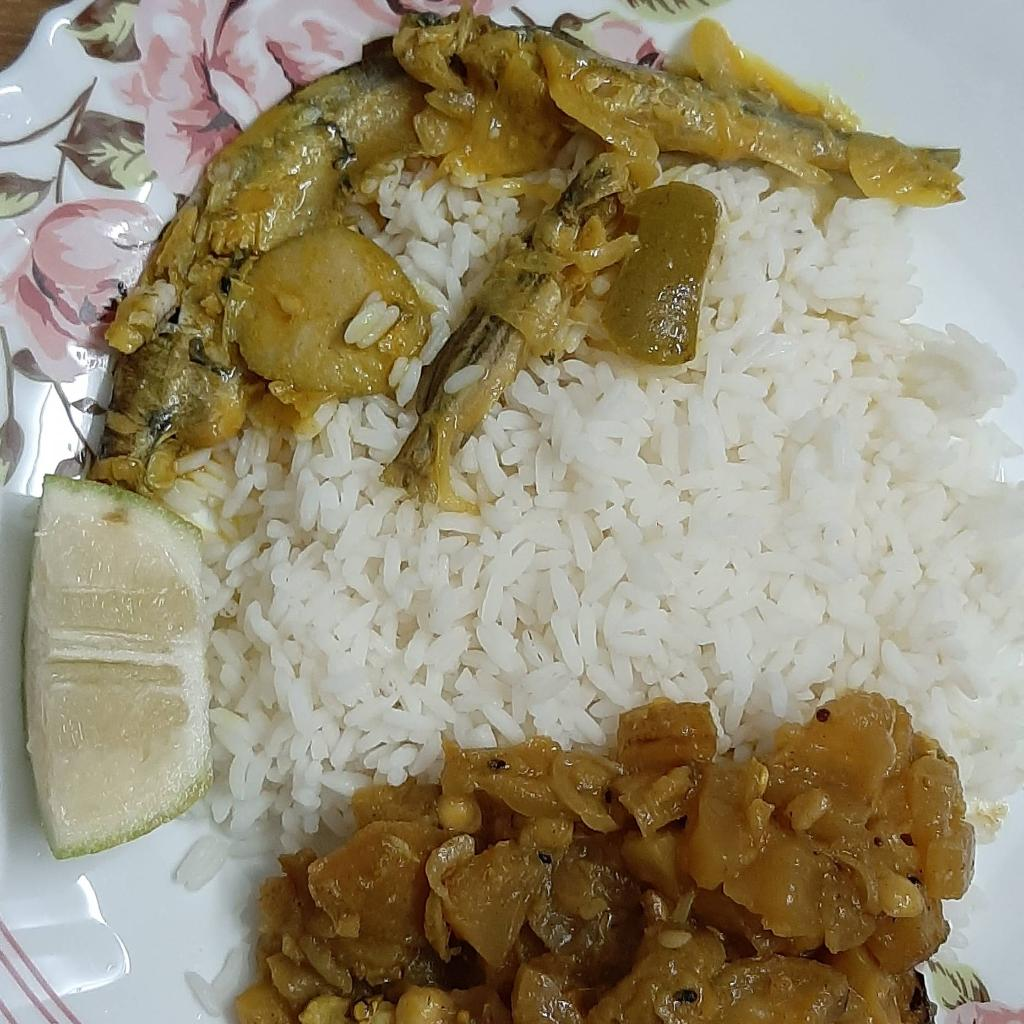chichinga-vaji: (235, 692, 966, 1021)
fish: (95, 13, 963, 488)
lemon: (26, 483, 215, 860)
rice: (198, 171, 1023, 858)
